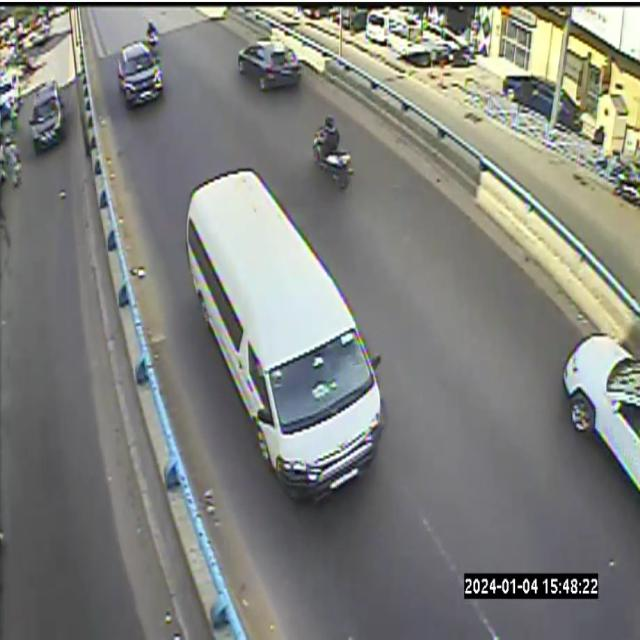car: (186, 168, 383, 498), (563, 332, 639, 490), (238, 40, 301, 90), (119, 41, 163, 107)
